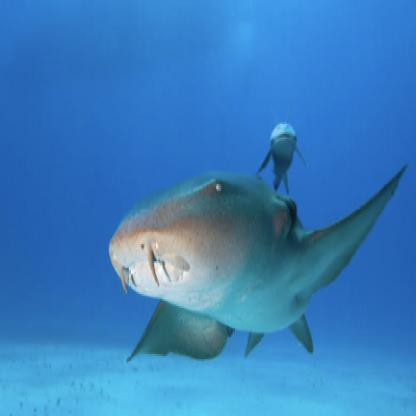Shark -Selachimorpha-: (106, 146, 415, 385)
